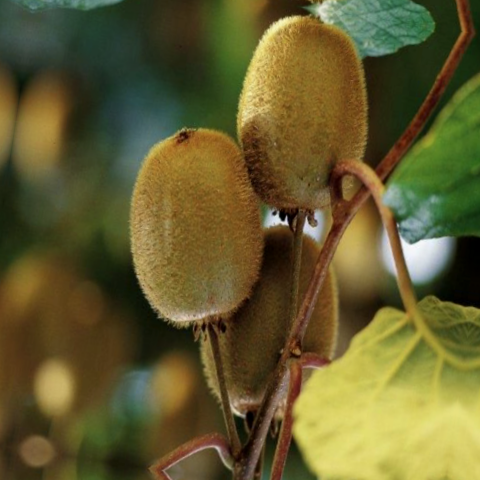kiwi: (200, 1, 396, 243), (176, 199, 353, 439), (102, 116, 285, 343)
